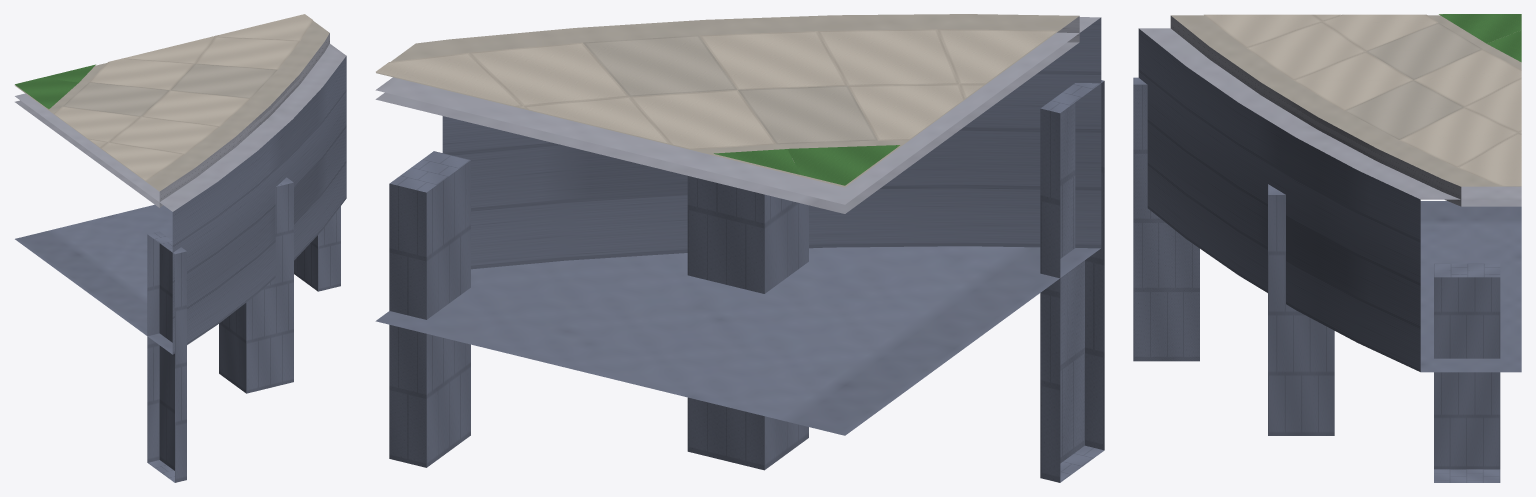
Rendered from high_crown_fracture_54.obj.
3 renders of one model, left to right at view 1: azimuth 30°, elevation 25°; view 2: azimuth 150°, elevation 25°; view 3: azimuth 270°, elevation 25°, orthographic. The views are drawn at different scales.
Visible parts, largest first — view 1: ArenaFracture54; view 2: ArenaFracture54; view 3: ArenaFracture54.
Boxes of the visible parts, box(x1,y1,x2,y2) form: ArenaFracture54: box(14, 14, 346, 482); ArenaFracture54: box(375, 14, 1104, 482); ArenaFracture54: box(1133, 14, 1521, 482).
Bounding box in the file's own units: 10 × 9.25 × 9.57.
6 materials, 6 textured.
